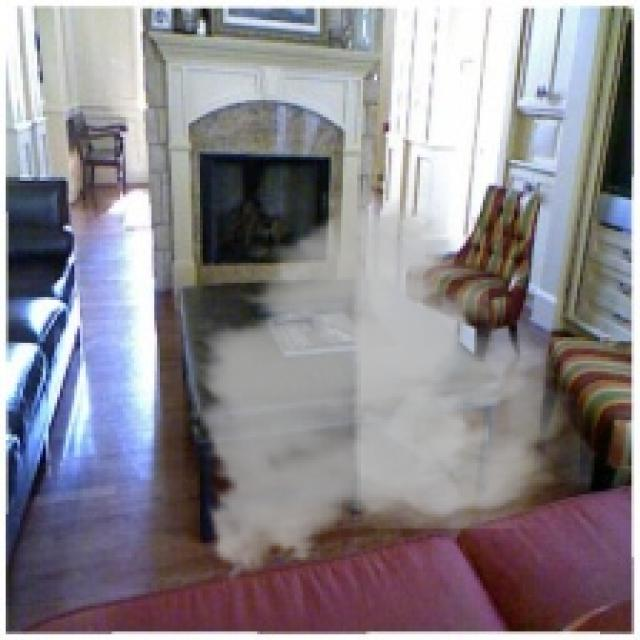smoke: (183, 174, 580, 592)
